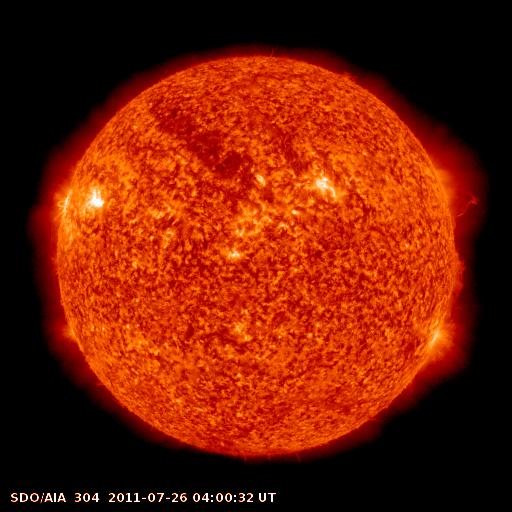prominence: (440, 178, 486, 227), (442, 247, 474, 308)
